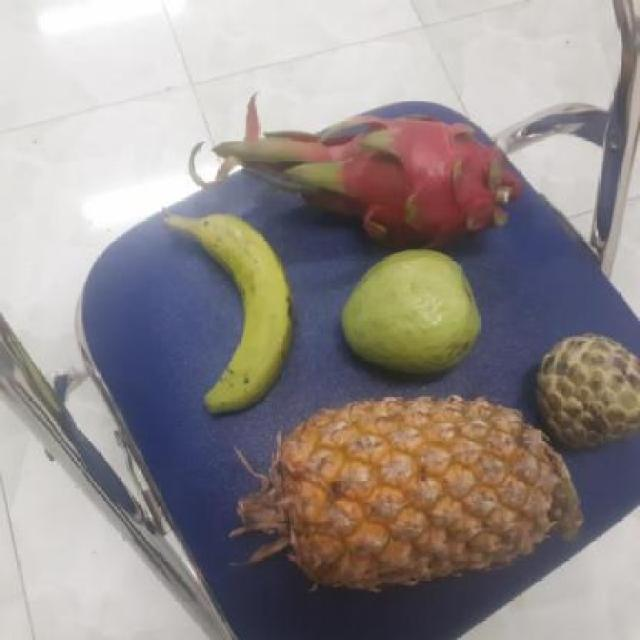banana: (171, 212, 292, 406)
dragon fruit: (302, 110, 510, 245)
guava: (334, 252, 480, 374)
pineapple: (236, 396, 573, 589)
sugar apple: (528, 335, 640, 453)
